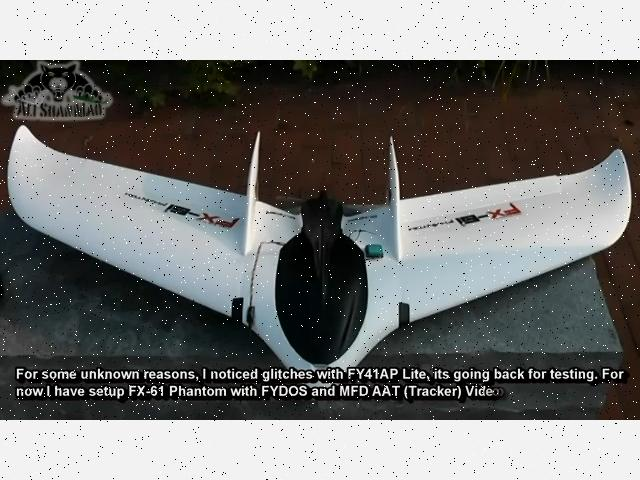Anti-Drone: (4, 109, 640, 374)
